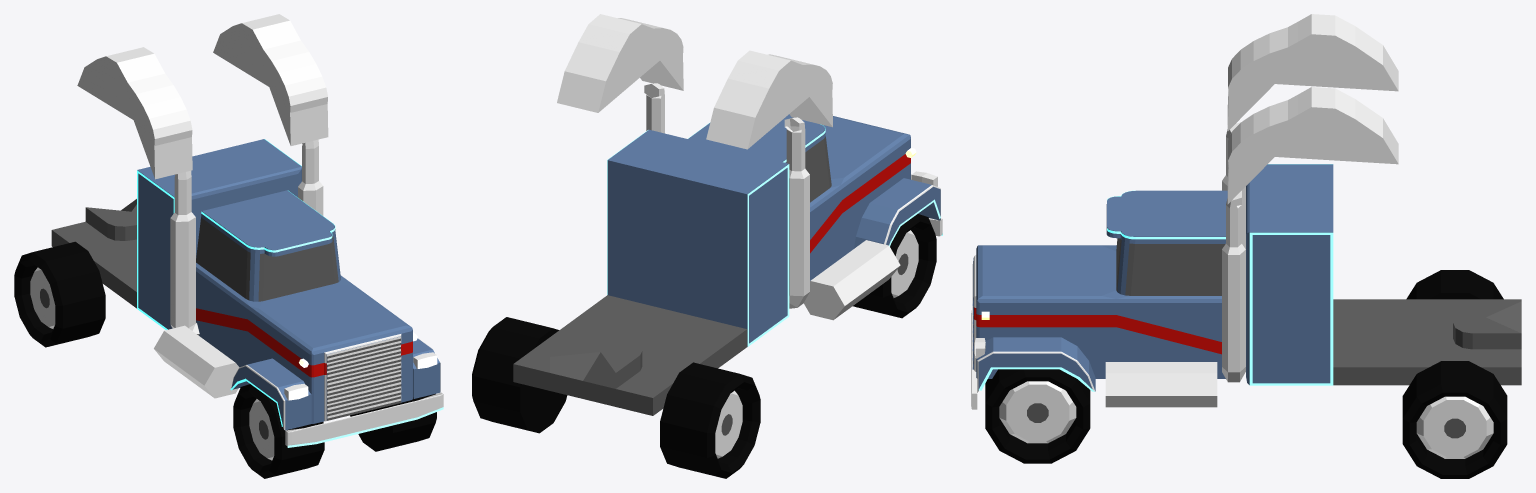
The model's file is Test truck.glb.
3 renders of one model, left to right at view 1: azimuth 30°, elevation 25°; view 2: azimuth 150°, elevation 25°; view 3: azimuth 270°, elevation 25°, orthographic. The views are drawn at different scales.
Visible parts, largest first — view 1: Cube, Cube.005, Smoke Domain.001, Smoke Domain, Cube.015, Cube.010, Cube.011, Cube.007, Cube.009, Cube.012, Cube.004, Cube.003 (+5 smaller); view 2: Cube.005, Cube.012, Cube, Cube.015, Smoke Domain, Smoke Domain.001, Cube.014, Cube.011, Cube.009, Cube.007, Cube.013, Cube.003 (+2 smaller); view 3: Cube, Cube.005, Cube.012, Cube.014, Smoke Domain, Smoke Domain.001, Cube.001, Cube.008, Cube.006, Cube.002, Cube.013, Plane (+1 smaller).
Boxes of the visible parts, <box> form: Cube: <box>196,190,412,423</box>; Cube.005: <box>137,139,301,329</box>; Smoke Domain.001: <box>77,47,192,179</box>; Smoke Domain: <box>213,14,328,145</box>; Cube.015: <box>14,241,105,347</box>; Cube.010: <box>326,336,401,420</box>; Cube.011: <box>233,384,324,478</box>; Cube.007: <box>170,170,199,335</box>; Cube.009: <box>154,325,239,398</box>; Cube.012: <box>51,221,136,308</box>; Cube.004: <box>285,392,443,446</box>; Cube.003: <box>231,358,311,430</box>; Cube.005: <box>607,129,788,346</box>; Cube.012: <box>513,295,747,415</box>; Cube: <box>688,114,910,280</box>; Cube.015: <box>660,362,760,478</box>; Smoke Domain: <box>557,14,683,112</box>; Smoke Domain.001: <box>706,50,832,149</box>; Cube.014: <box>472,317,567,433</box>; Cube.011: <box>853,214,936,318</box>; Cube.009: <box>803,240,900,320</box>; Cube.007: <box>784,117,809,308</box>; Cube.013: <box>550,335,642,388</box>; Cube.003: <box>854,178,940,248</box>; Cube: <box>974,190,1227,378</box>; Cube.005: <box>1246,164,1333,384</box>; Cube.012: <box>1333,299,1521,385</box>; Cube.014: <box>1402,361,1507,478</box>; Smoke Domain: <box>1227,87,1398,204</box>; Smoke Domain.001: <box>1227,14,1398,131</box>; Cube.001: <box>985,369,1090,463</box>; Cube.008: <box>1105,362,1217,407</box>; Cube.006: <box>1222,190,1245,382</box>; Cube.002: <box>977,337,1095,392</box>; Cube.013: <box>1453,301,1521,349</box>; Plane: <box>979,164,1333,391</box>.
Bounding box in the file's own units: 9.11 × 12.79 × 17.82.
